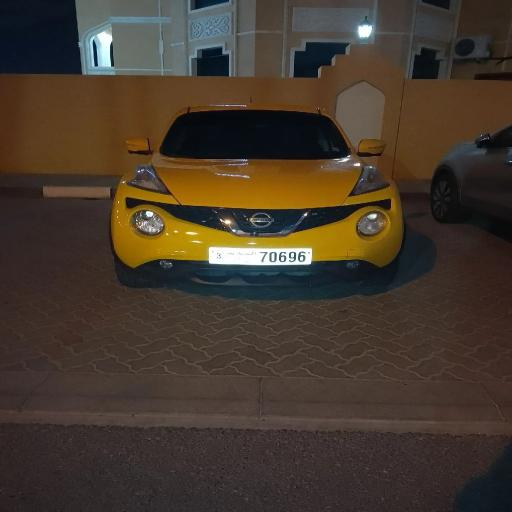license-plates: (209, 247, 312, 265)
